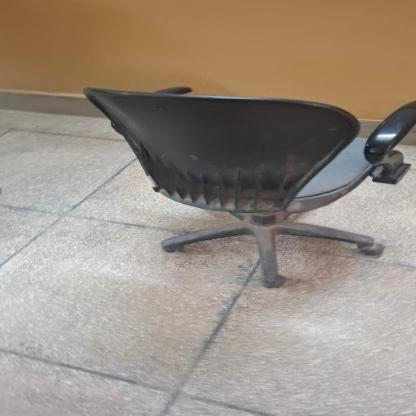chair: (77, 63, 416, 296)
